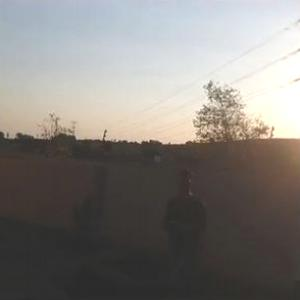follow: (152, 166, 208, 299)
